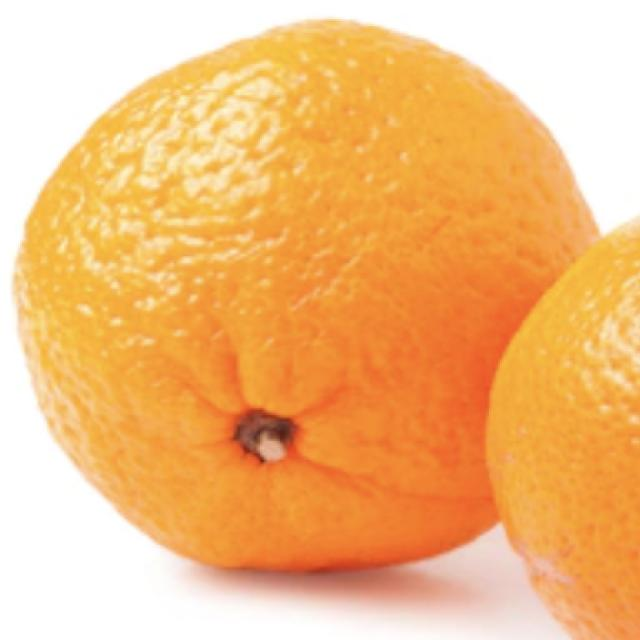orange: (17, 10, 581, 582)
